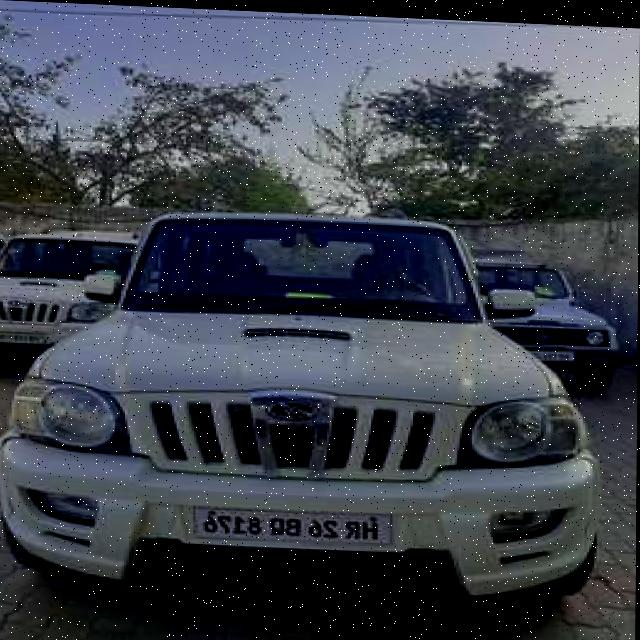plate: (190, 500, 395, 545)
